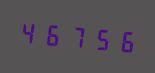five: (87, 20, 109, 55)
four: (18, 14, 40, 49)
seven: (64, 18, 86, 53)
six: (41, 16, 63, 51), (110, 22, 132, 57)
